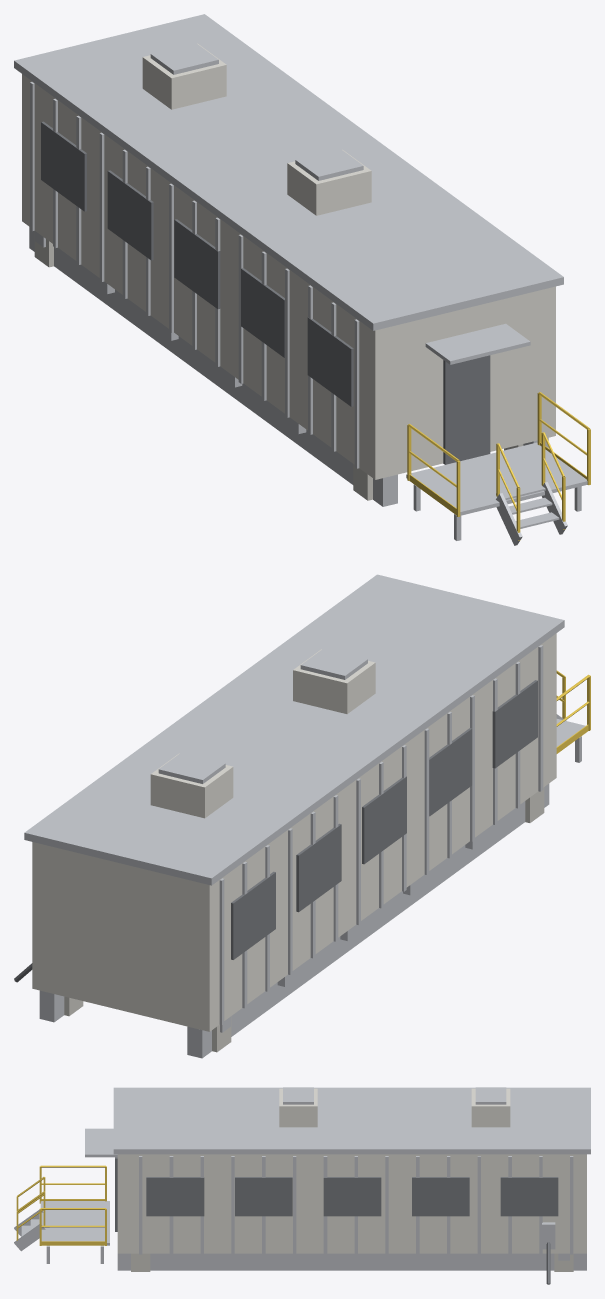
Rendered from ore-processing-and-haulage-plant-site-office-a738f200.glb.
3 views of the same model, one above another, from view 1: azimuth 30°, elevation 25°; view 2: azimuth 150°, elevation 25°; view 3: azimuth 270°, elevation 25° (orthographic). The views are drawn at different scales.
Parts seen in each view (by area): view 1: site-office; view 2: site-office; view 3: site-office.
Part boxes in pixels (left/top/right/bottom): site-office: left=14, top=14, right=590, bottom=545; site-office: left=14, top=574, right=590, bottom=1058; site-office: left=14, top=1087, right=590, bottom=1284.
Bounding box in the file's own units: 4.63 × 4.27 × 14.99.
